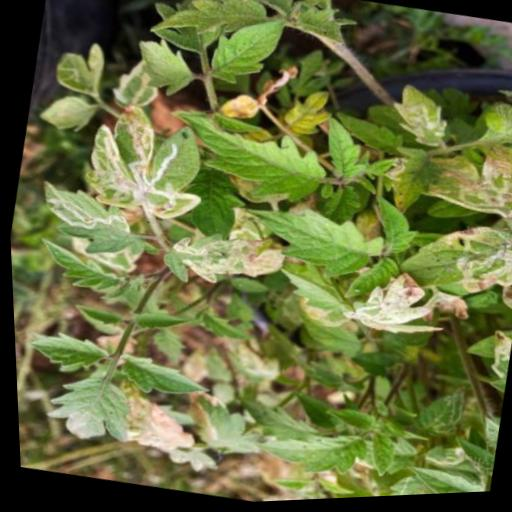Leaf_Miner: (70, 94, 217, 228), (390, 214, 512, 312), (28, 174, 154, 267), (153, 220, 289, 305), (412, 149, 512, 236), (337, 265, 436, 346), (271, 269, 370, 332), (381, 82, 454, 155), (49, 36, 108, 100), (107, 54, 166, 117), (472, 83, 512, 160), (477, 332, 512, 400)
